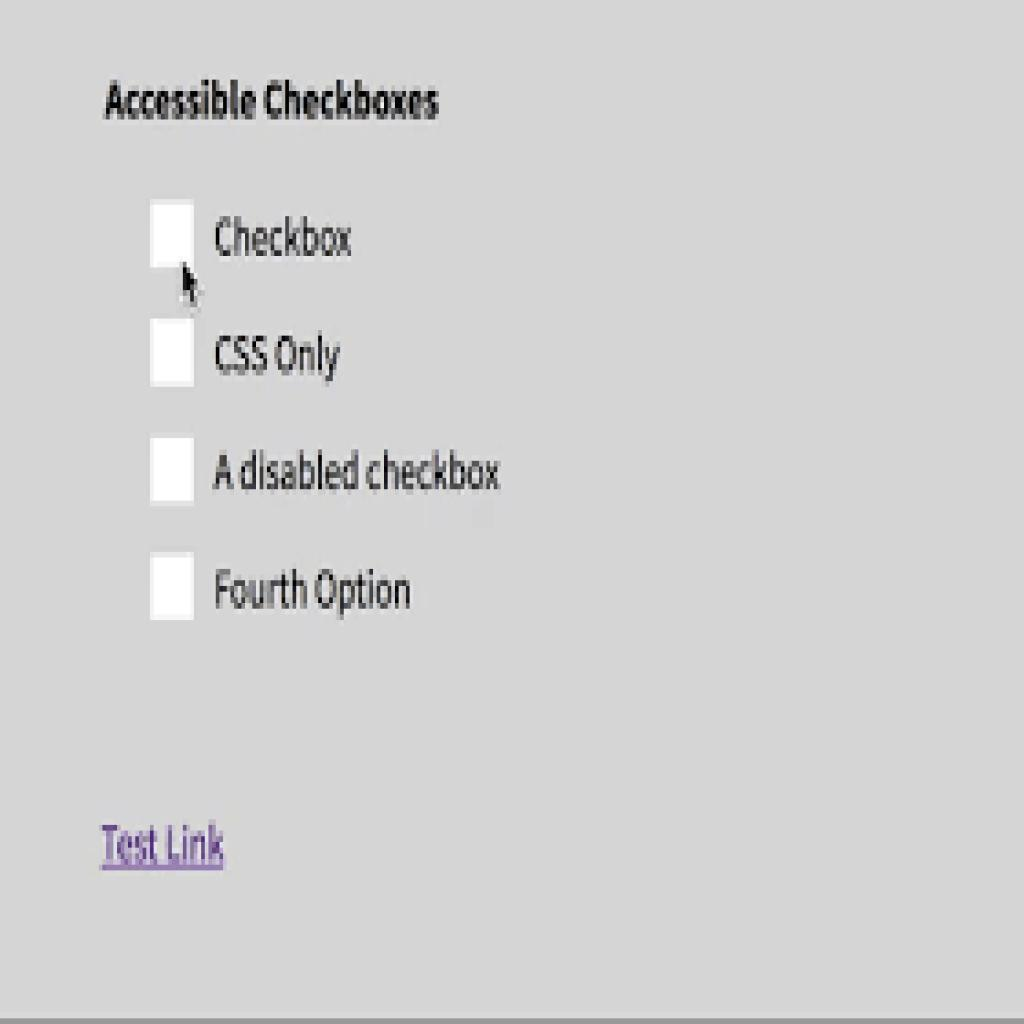checkbox: (146, 550, 202, 627), (146, 317, 199, 396), (149, 194, 200, 276), (147, 434, 197, 511)
